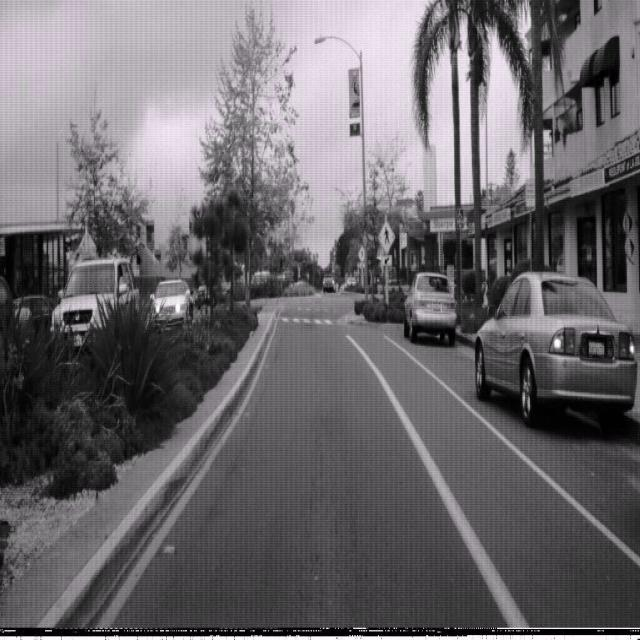pedestrianCrossing: (376, 217, 396, 255)
